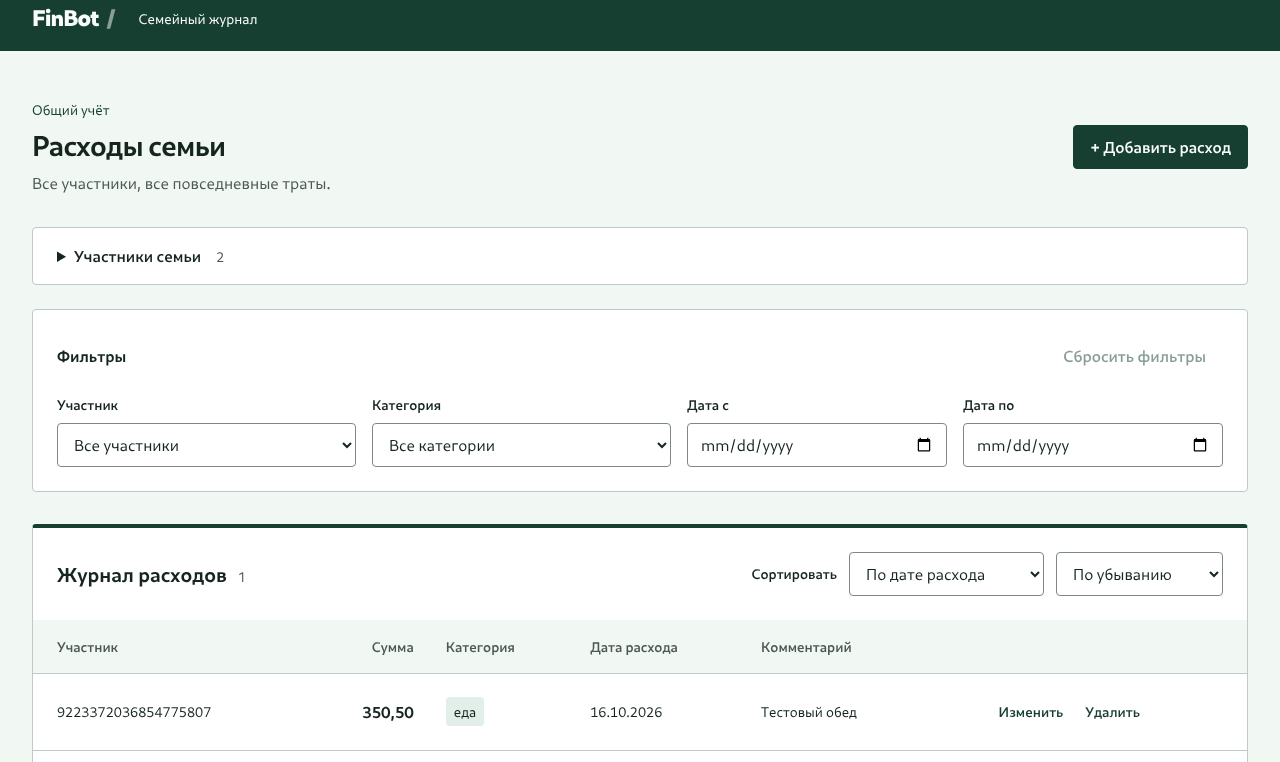
expense journal › keeps the confirmation open after a delete error and allows retry
Click the button "Удалить" at (1113, 712), box x1=1076 y1=690 x2=1149 y2=734
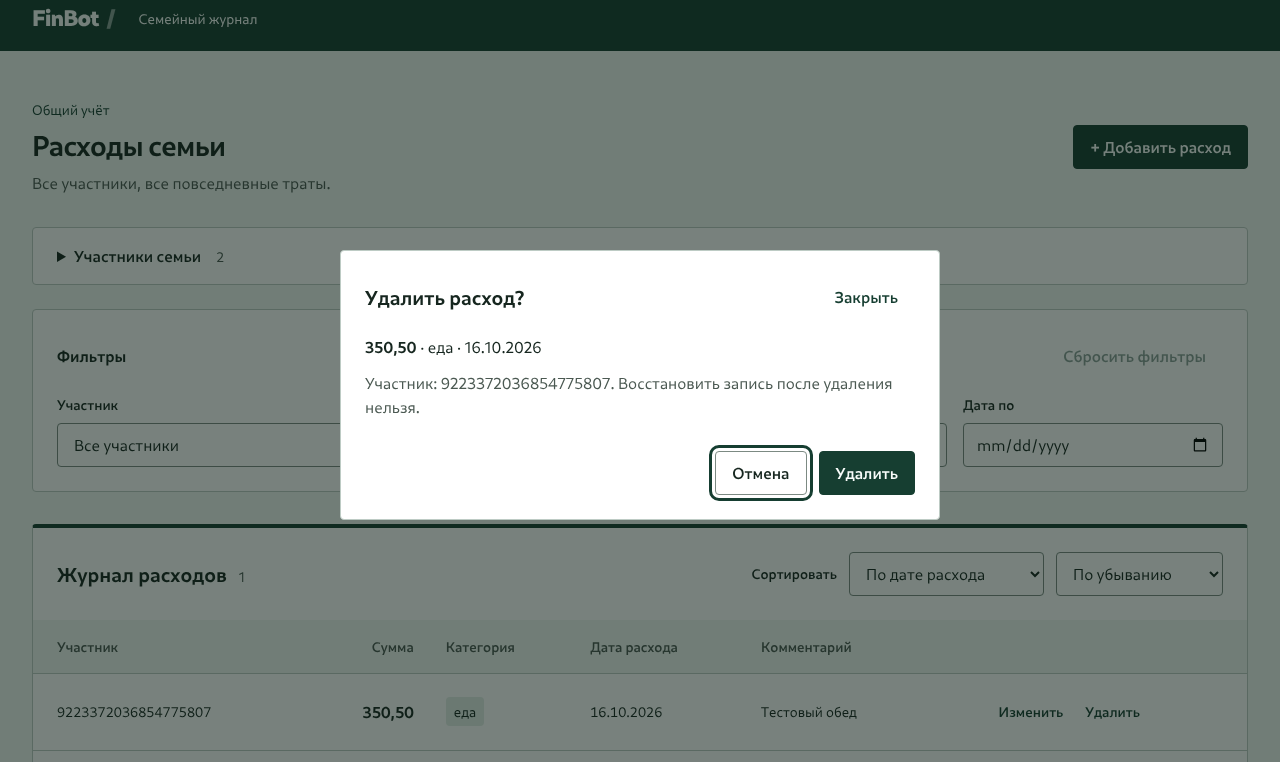
Click the button "Удалить" at (867, 473), box x1=818 y1=451 x2=915 y2=495
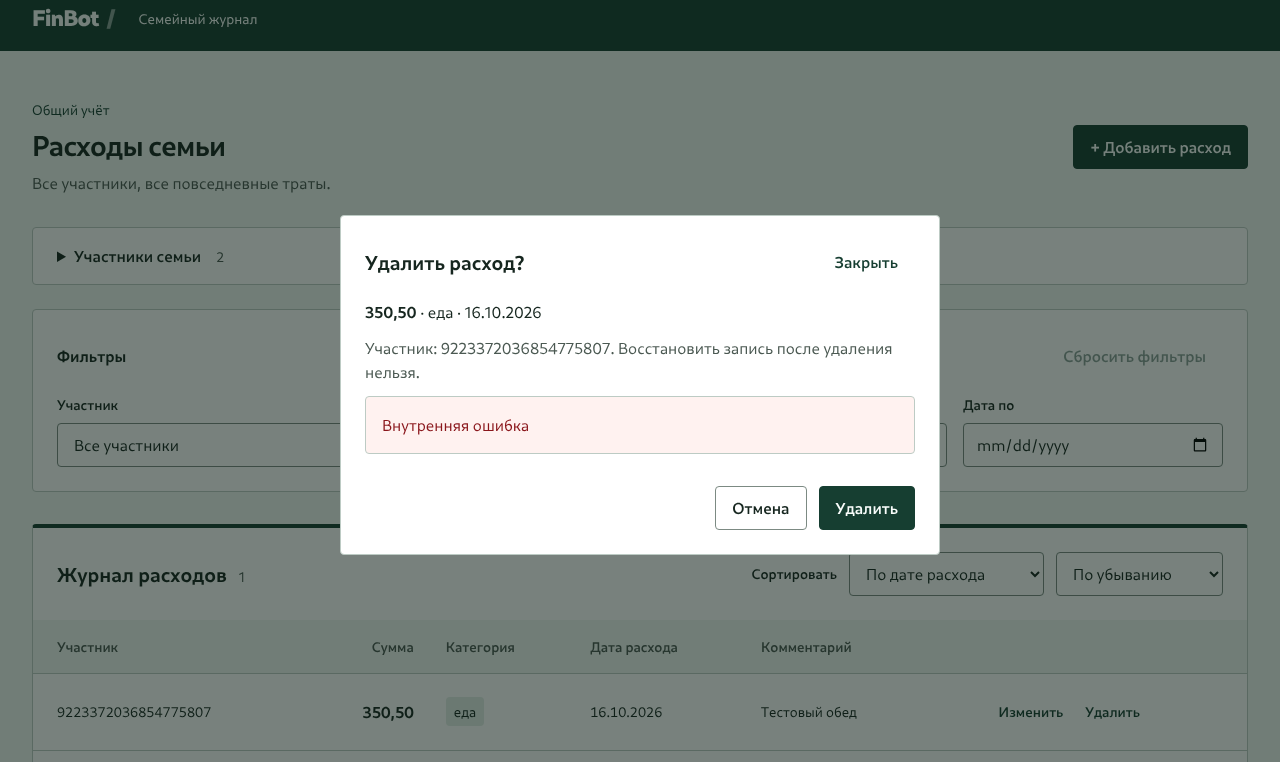
Expected: the text "Расход удалён." is not shown
Now the text "Внутренняя ошибка" is shown, box x1=365 y1=396 x2=915 y2=454
Click the button "Удалить" at (867, 508), box x1=818 y1=486 x2=915 y2=530
(page scrolled)
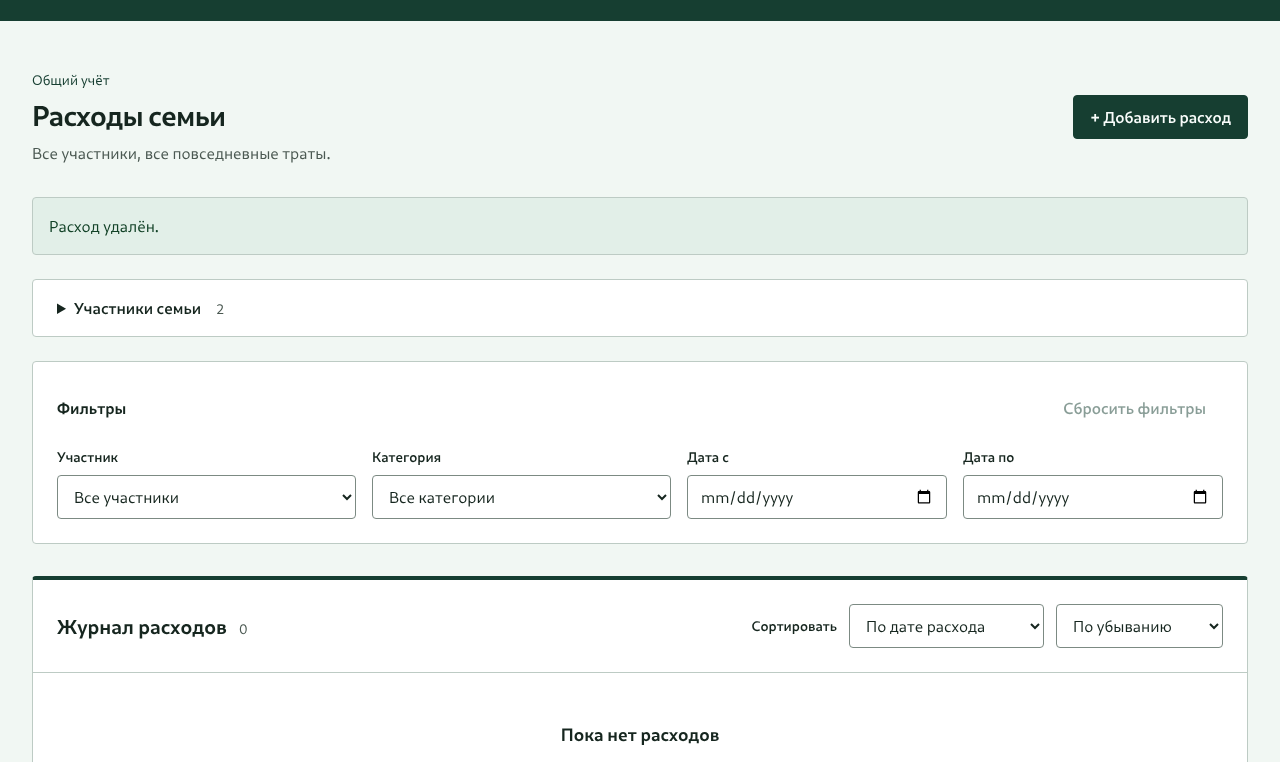
Now the text "Расход удалён." is shown, box x1=32 y1=197 x2=1248 y2=255
